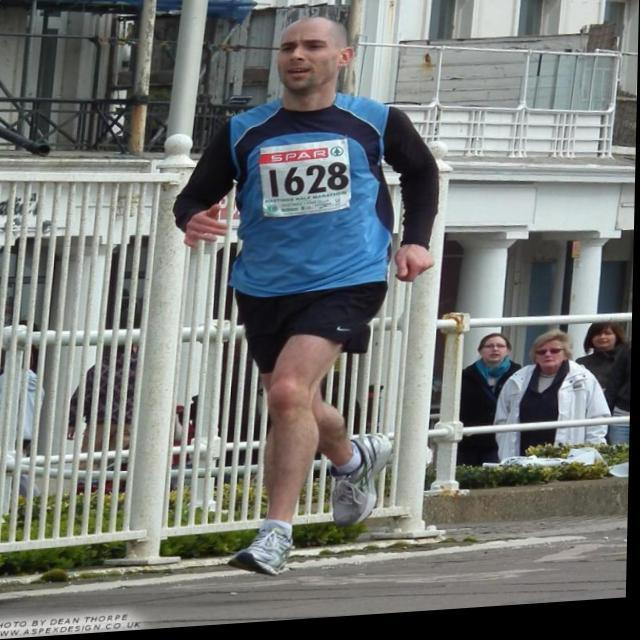dorsal: (254, 136, 366, 227)
